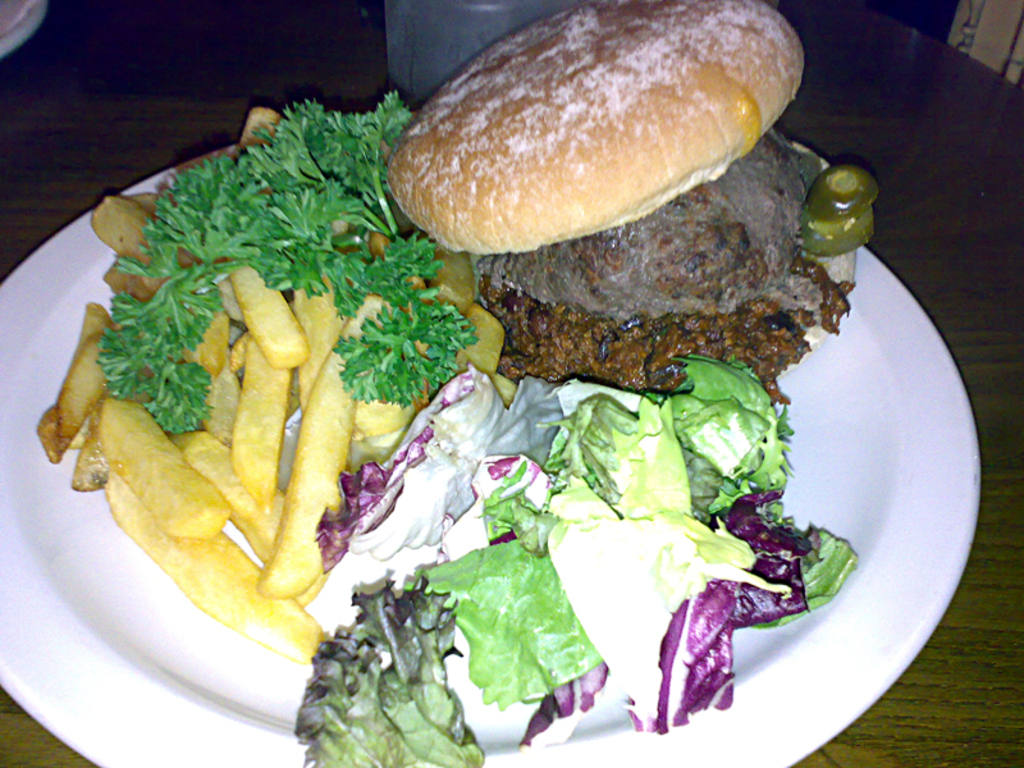French fries: (80, 203, 382, 655)
